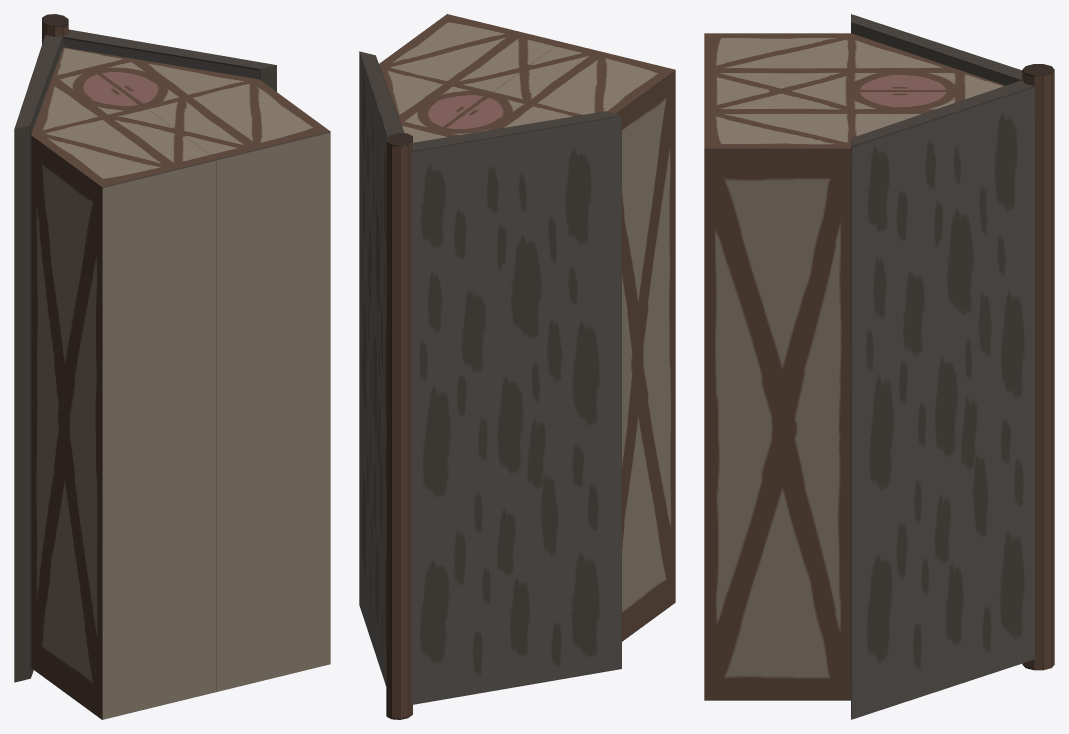
The model's file is Actually_House_2.fbx.
3 views of the same model, side by side, from view 1: azimuth 30°, elevation 25°; view 2: azimuth 150°, elevation 25°; view 3: azimuth 270°, elevation 25° (orthographic). The views are drawn at different scales.
Visible parts, largest first — view 1: Cube.005; view 2: Cube.005; view 3: Cube.005.
Part boxes in pixels (<box>): Cube.005: <box>14,14,330,719</box>; Cube.005: <box>359,14,675,719</box>; Cube.005: <box>704,14,1054,719</box>.
Bounding box in the file's own units: 2568 × 5370 × 2867.
